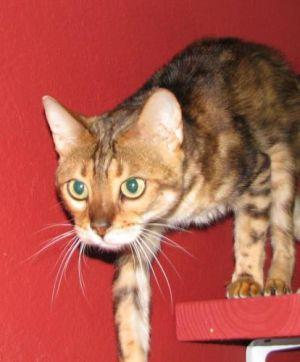bengal: (38, 88, 192, 263)
